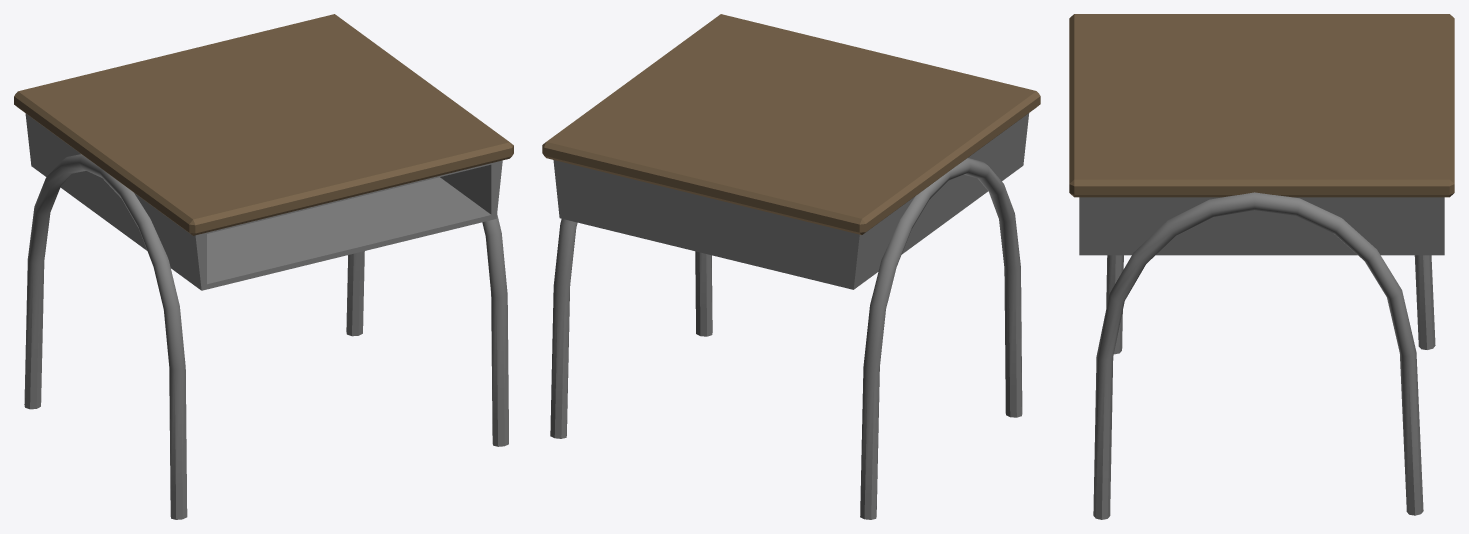
File: Desk.fbx
The picture shows the model from 3 angles, left to right: view 1: azimuth 30°, elevation 25°; view 2: azimuth 150°, elevation 25°; view 3: azimuth 270°, elevation 25°; orthographic projection. The views are drawn at different scales.
Parts seen in each view (by area): view 1: Desk_Top.001, Desk_Base.001, DeskLeg.001, Deskleg1.001; view 2: Desk_Top.001, Desk_Base.001, DeskLeg.001, Deskleg1.001; view 3: Desk_Top.001, Desk_Base.001, Deskleg1.001, DeskLeg.001.
Part boxes in pixels (box(x1,y1,x2,y2)): Desk_Top.001: box(14, 14, 513, 235); Desk_Base.001: box(25, 113, 502, 290); DeskLeg.001: box(24, 154, 187, 519); Deskleg1.001: box(346, 214, 508, 446); Desk_Top.001: box(542, 14, 1040, 234); Desk_Base.001: box(553, 113, 1029, 289); DeskLeg.001: box(860, 158, 1022, 519); Deskleg1.001: box(550, 219, 712, 438); Desk_Top.001: box(1069, 14, 1454, 197); Desk_Base.001: box(1079, 197, 1444, 255); Deskleg1.001: box(1093, 192, 1423, 519); DeskLeg.001: box(1106, 255, 1435, 354).
Bounding box in the file's own units: 2.34 × 2.1 × 2.2.
